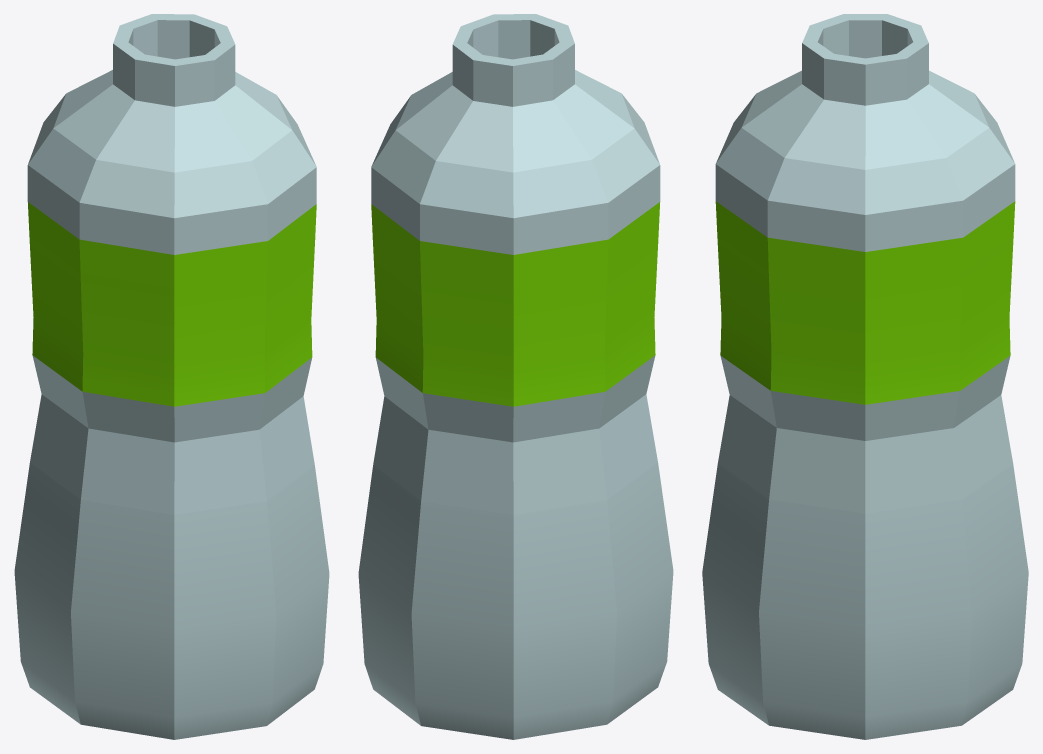
The model's file is WaterBottle_LowPoly.fbx.
3 views of the same model, side by side, from view 1: azimuth 30°, elevation 25°; view 2: azimuth 150°, elevation 25°; view 3: azimuth 270°, elevation 25° (orthographic).
Visible parts, largest first — view 1: pCylinder4; view 2: pCylinder4; view 3: pCylinder4.
Part boxes in pixels (left/top/right/bottom): pCylinder4: left=14, top=14, right=329, bottom=739; pCylinder4: left=358, top=14, right=673, bottom=739; pCylinder4: left=702, top=14, right=1028, bottom=739.
Size of the model in its own units: 0.4247 by 0.9733 by 0.449.
